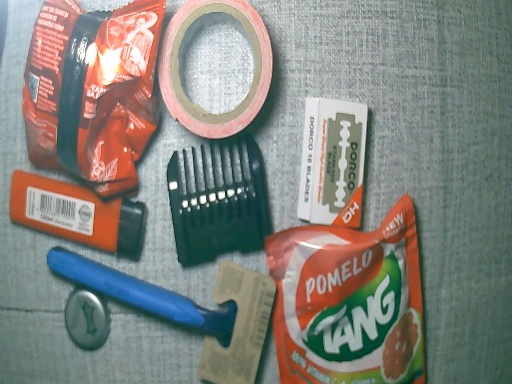metal: (64, 288, 111, 352)
plastic: (266, 206, 428, 384), (19, 3, 161, 199)
trash: (161, 1, 274, 142), (9, 168, 154, 266), (43, 244, 207, 329), (167, 138, 276, 265), (197, 258, 276, 384), (300, 98, 360, 226)
